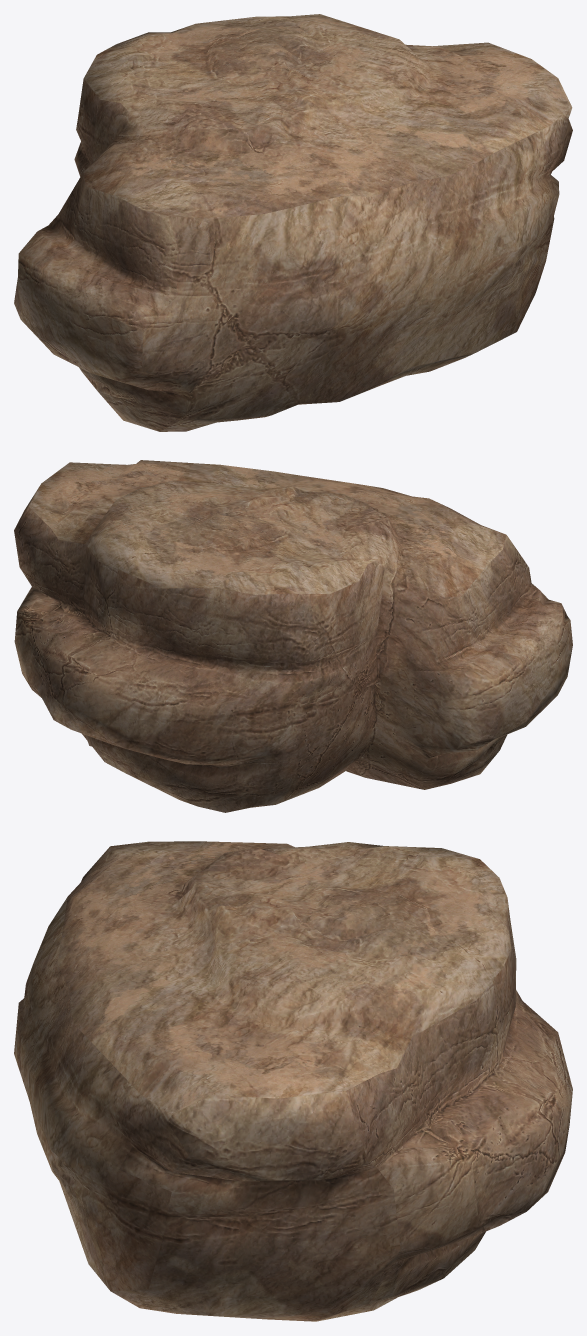
The model's file is rock_medium03.dae.
The picture shows the model from 3 angles, top to bottom: view 1: azimuth 30°, elevation 25°; view 2: azimuth 150°, elevation 25°; view 3: azimuth 270°, elevation 25°; orthographic projection. The views are drawn at different scales.
Parts seen in each view (by area): view 1: Mesh; view 2: Mesh; view 3: Mesh.
Part boxes in pixels (box(x1,y1,x2,y2)): Mesh: box(14, 14, 572, 431); Mesh: box(14, 460, 572, 812); Mesh: box(14, 841, 572, 1321).
Size of the model in its own units: 2.32 by 1.18 by 1.8.
